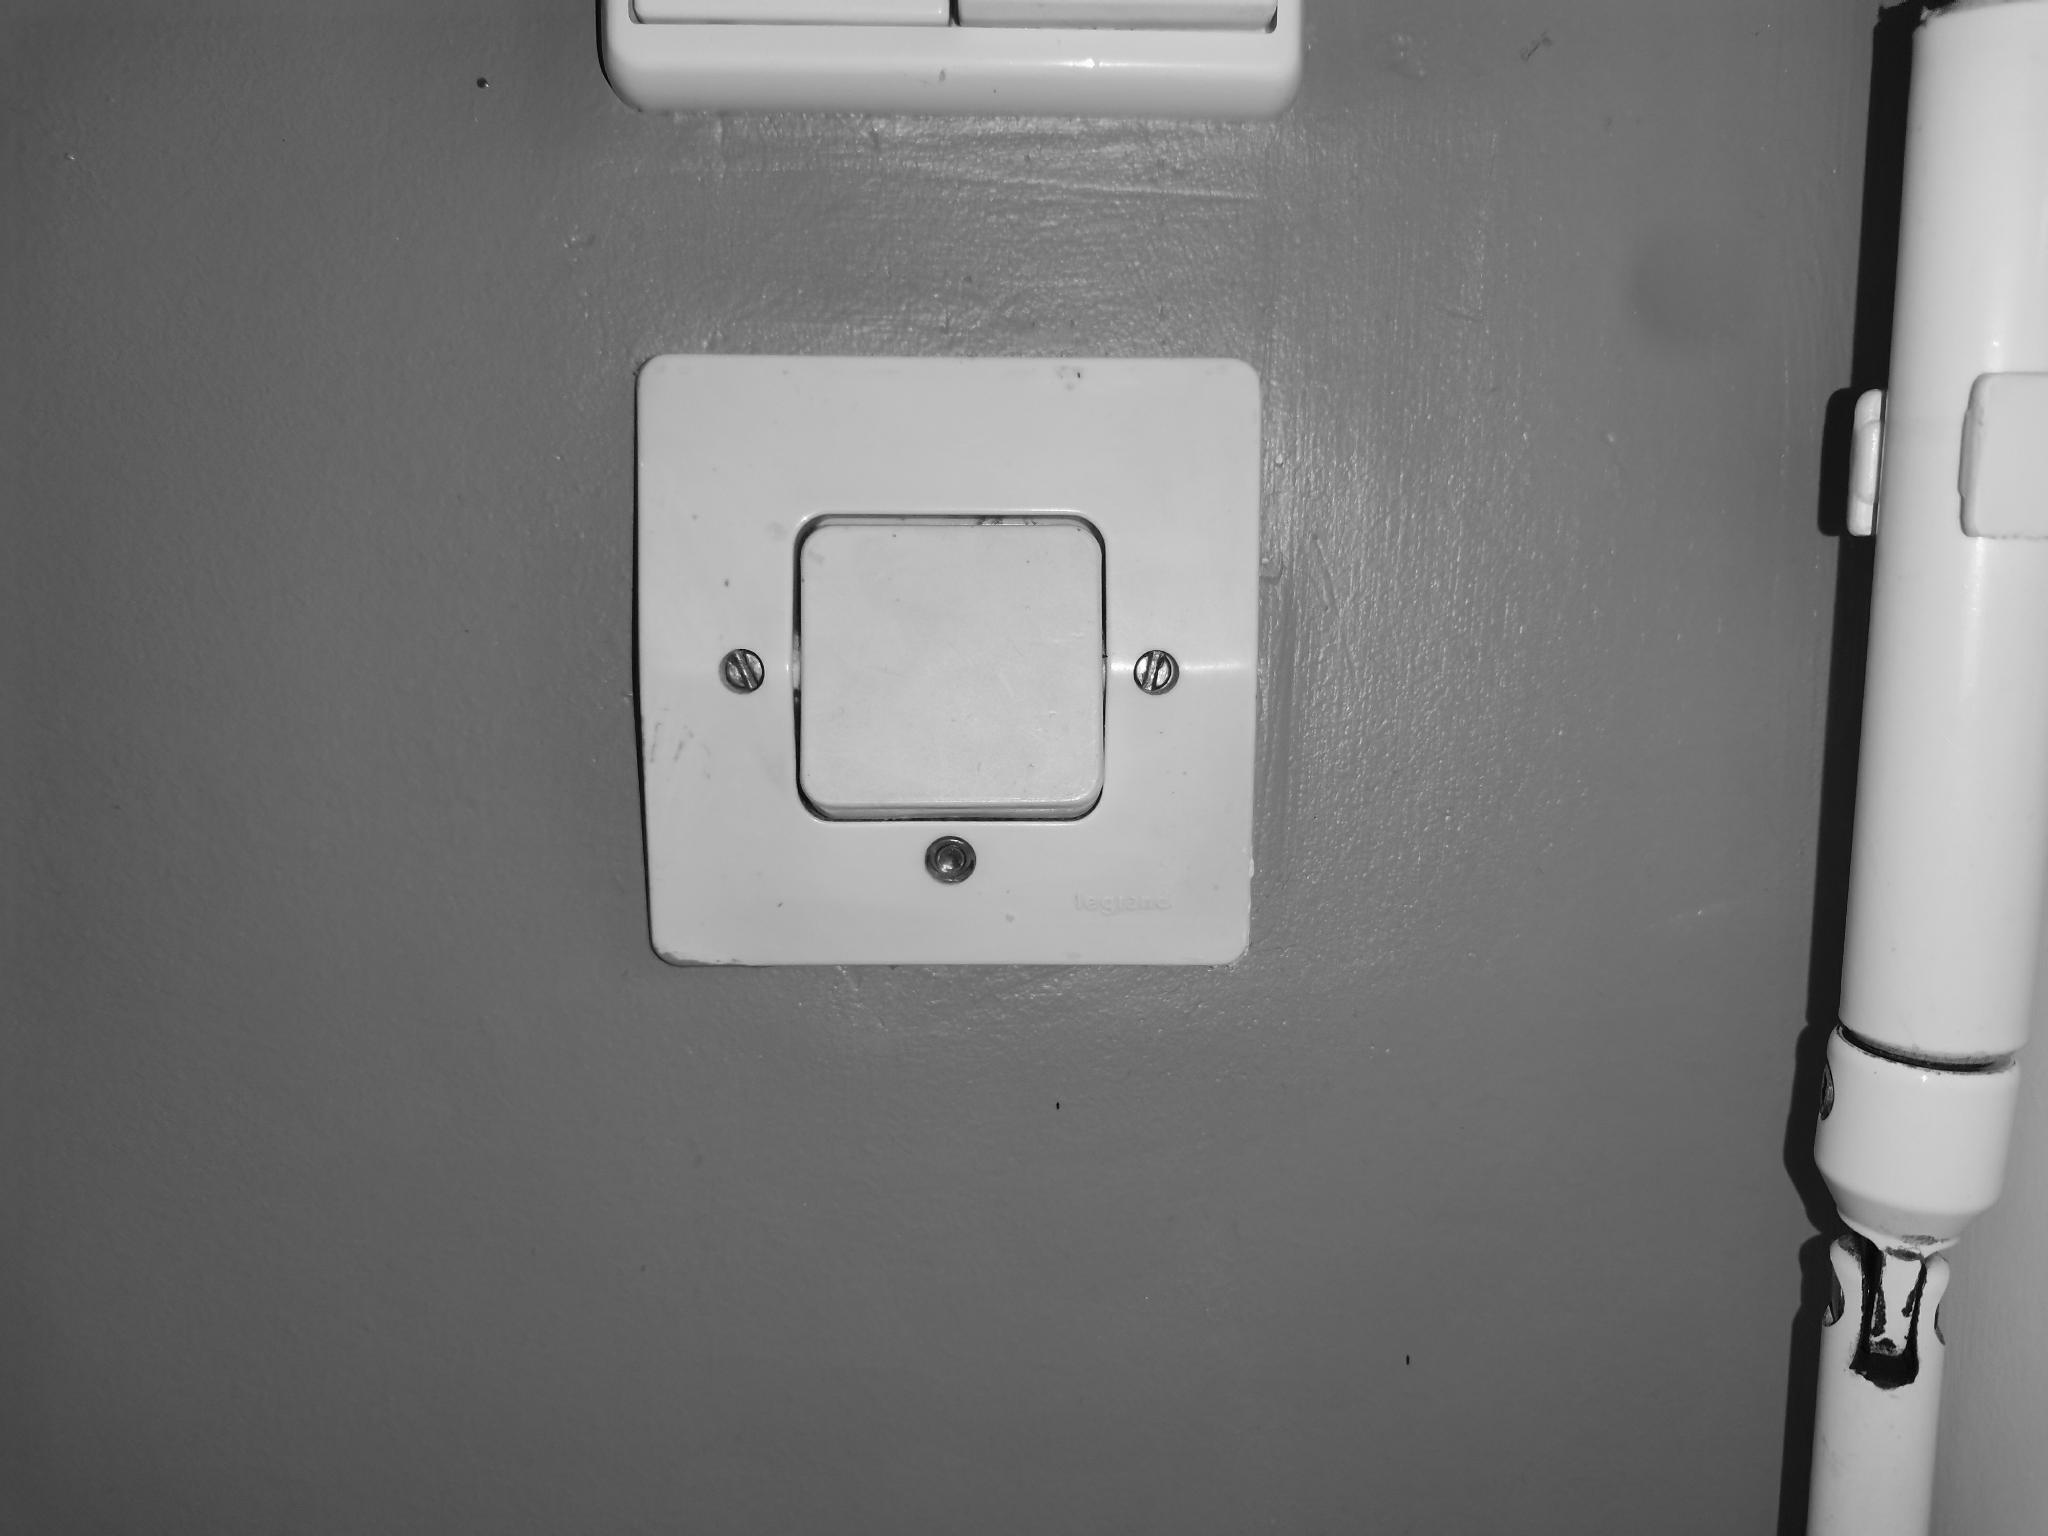slotted: (713, 647, 769, 700), (1132, 645, 1185, 699)
